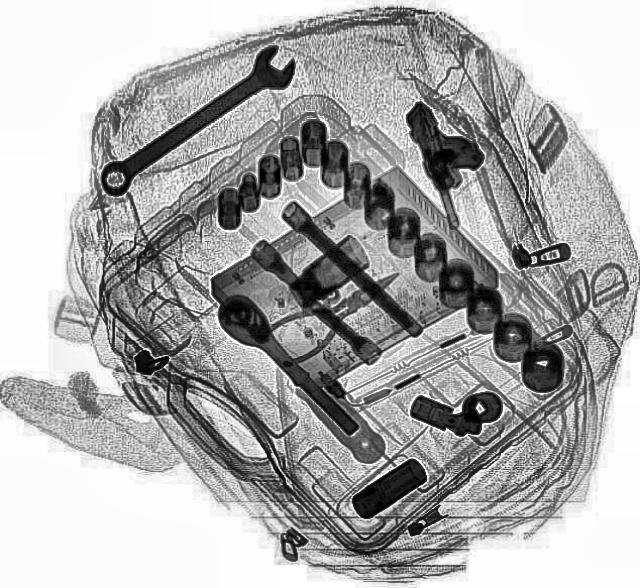Gun: (398, 91, 504, 229)
Pliers: (252, 254, 414, 372)
Wrench: (88, 38, 306, 204)
